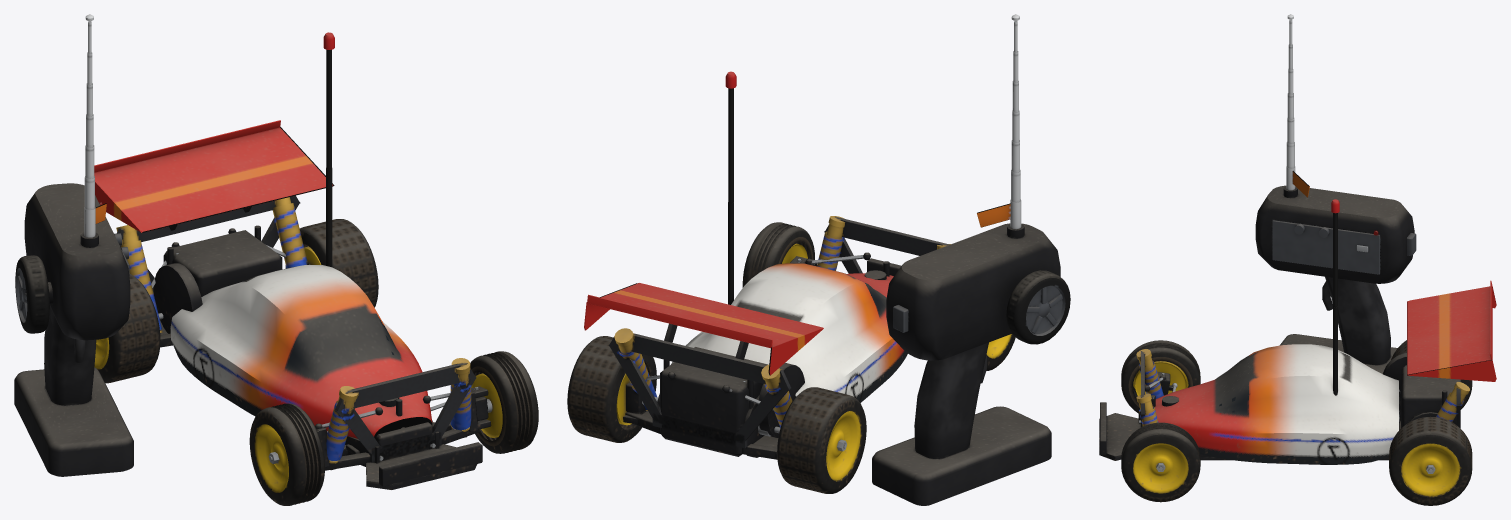
The model's file is RCCar.fbx.
The picture shows the model from 3 angles, left to right: view 1: azimuth 30°, elevation 25°; view 2: azimuth 150°, elevation 25°; view 3: azimuth 270°, elevation 25°; orthographic projection. The views are drawn at different scales.
Visible parts, largest first — view 1: RCCar_Shell, RCCar_Remote, RCCar_Chassis, RCCar_WheelFR, RCCar_WheelFL, RCCar_WheelRR, RCCar_WheelRL, RCCar_Arms, RCCar_RemoteWheel, RCCar_AerialTip, RCCar_Aerial; view 2: RCCar_Remote, RCCar_Shell, RCCar_Chassis, RCCar_WheelRR, RCCar_WheelRL, RCCar_RemoteWheel, RCCar_WheelFL, RCCar_Arms, RCCar_AerialTip, RCCar_WheelFR, RCCar_Aerial; view 3: RCCar_Shell, RCCar_Remote, RCCar_Chassis, RCCar_WheelRL, RCCar_WheelFL, RCCar_WheelFR, RCCar_AerialTip.
Boxes of the visible parts, x1,y1,x2,y2 form: RCCar_Shell: (94,120,432,438); RCCar_Remote: (14,14,133,476); RCCar_Chassis: (116,195,482,489); RCCar_WheelFR: (249,403,324,505); RCCar_WheelFL: (470,351,538,453); RCCar_WheelRR: (94,274,163,383); RCCar_WheelRL: (285,219,378,307); RCCar_Arms: (151,228,491,470); RCCar_RemoteWheel: (15,255,49,333); RCCar_AerialTip: (323,32,334,169); RCCar_Aerial: (326,168,332,267); RCCar_Remote: (872,14,1060,505); RCCar_Shell: (584,263,907,402); RCCar_Chassis: (608,216,950,457); RCCar_WheelRR: (758,387,866,493); RCCar_WheelRL: (567,336,658,442); RCCar_RemoteWheel: (1006,270,1070,344); RCCar_WheelFL: (742,222,814,287); RCCar_Arms: (623,252,870,459); RCCar_AerialTip: (725,71,736,203); RCCar_WheelFR: (986,334,1015,370); RCCar_Aerial: (728,202,733,304); RCCar_Shell: (1154,280,1496,464); RCCar_Remote: (1255,14,1416,374); RCCar_Chassis: (1099,349,1469,460); RCCar_WheelRL: (1389,416,1472,505); RCCar_WheelFL: (1121,422,1200,502); RCCar_WheelFR: (1121,340,1200,413); RCCar_AerialTip: (1331,199,1339,307).
Size of the model in its own units: 1.49 by 1.57 by 1.58.
Materials: 1 (1 with a texture image).
